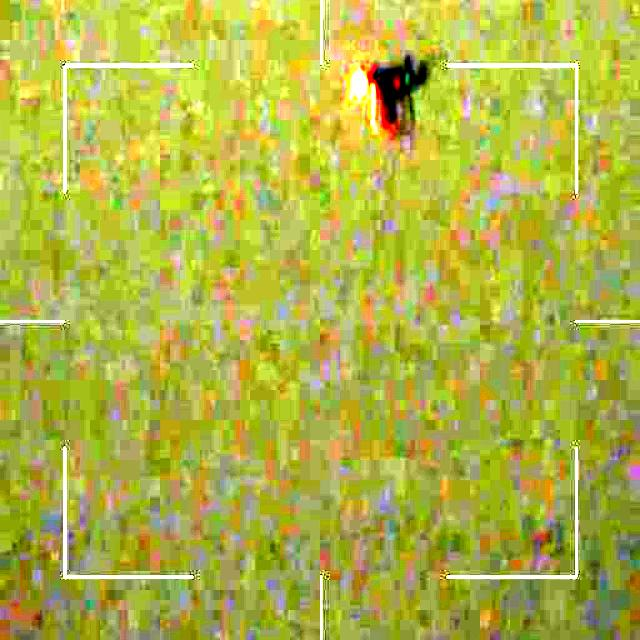bird: (344, 44, 431, 128)
